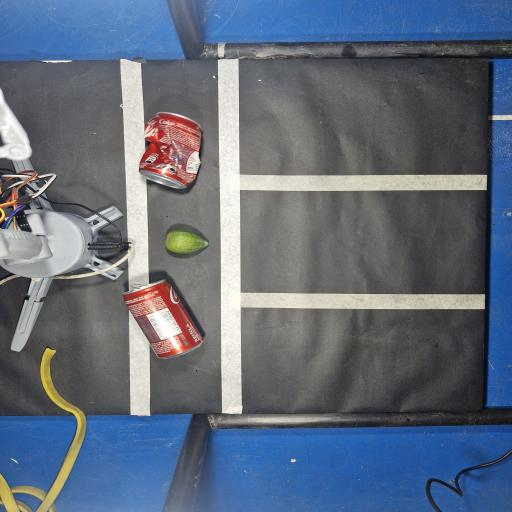higo: (164, 230, 208, 254)
lata: (123, 281, 202, 358)
lata_defectuoso: (139, 113, 201, 188)
